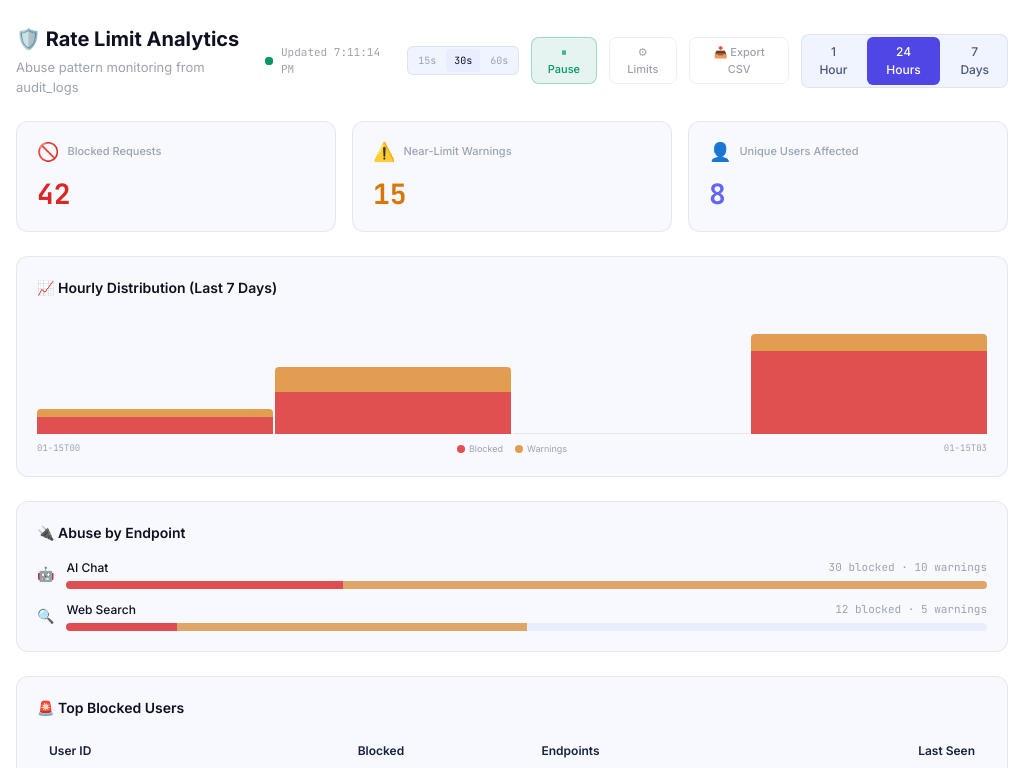
it: RateLimitDashboard › shows Redis badge when redis is configured
Expected: the text "42" is shown, x1=37 y1=175 x2=71 y2=212
Click the button "⚙ Limits".
click(643, 60)  # box x1=609 y1=37 x2=677 y2=84
(page scrolled)
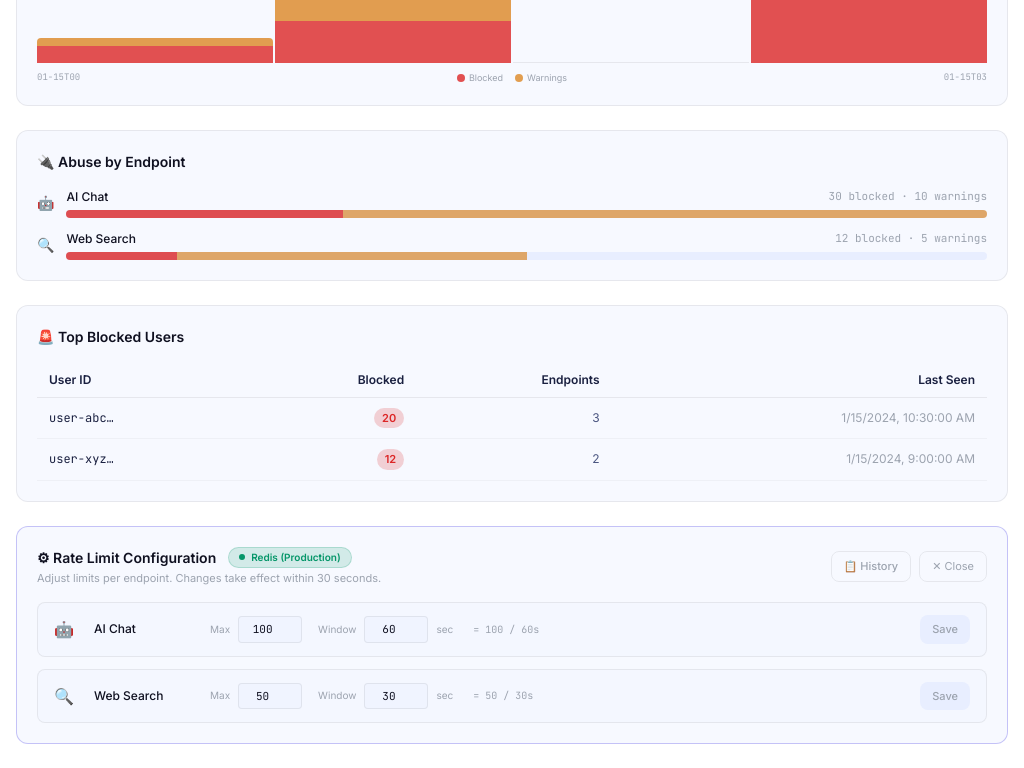
Expected: the text "Redis (Production)" is shown, x1=228 y1=546 x2=352 y2=568
